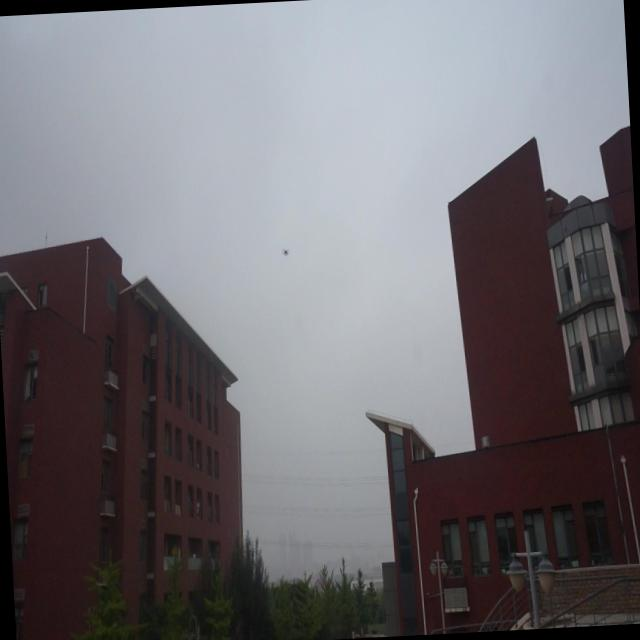drone: (278, 244, 294, 260)
